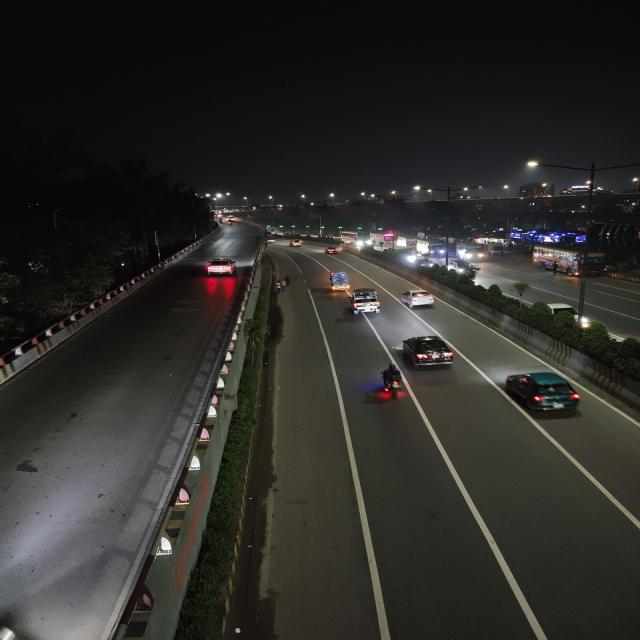bus: (532, 244, 608, 278), (454, 241, 489, 261), (420, 238, 449, 258), (373, 233, 401, 249), (340, 231, 360, 247)
car: (501, 366, 586, 419), (396, 332, 458, 372), (400, 287, 438, 310), (204, 257, 239, 277), (323, 245, 341, 255), (288, 240, 304, 248)
cng: (346, 288, 384, 316)
motorcycle: (373, 363, 407, 401)
pedestrian: (273, 278, 288, 294)
truck: (325, 272, 355, 292)
